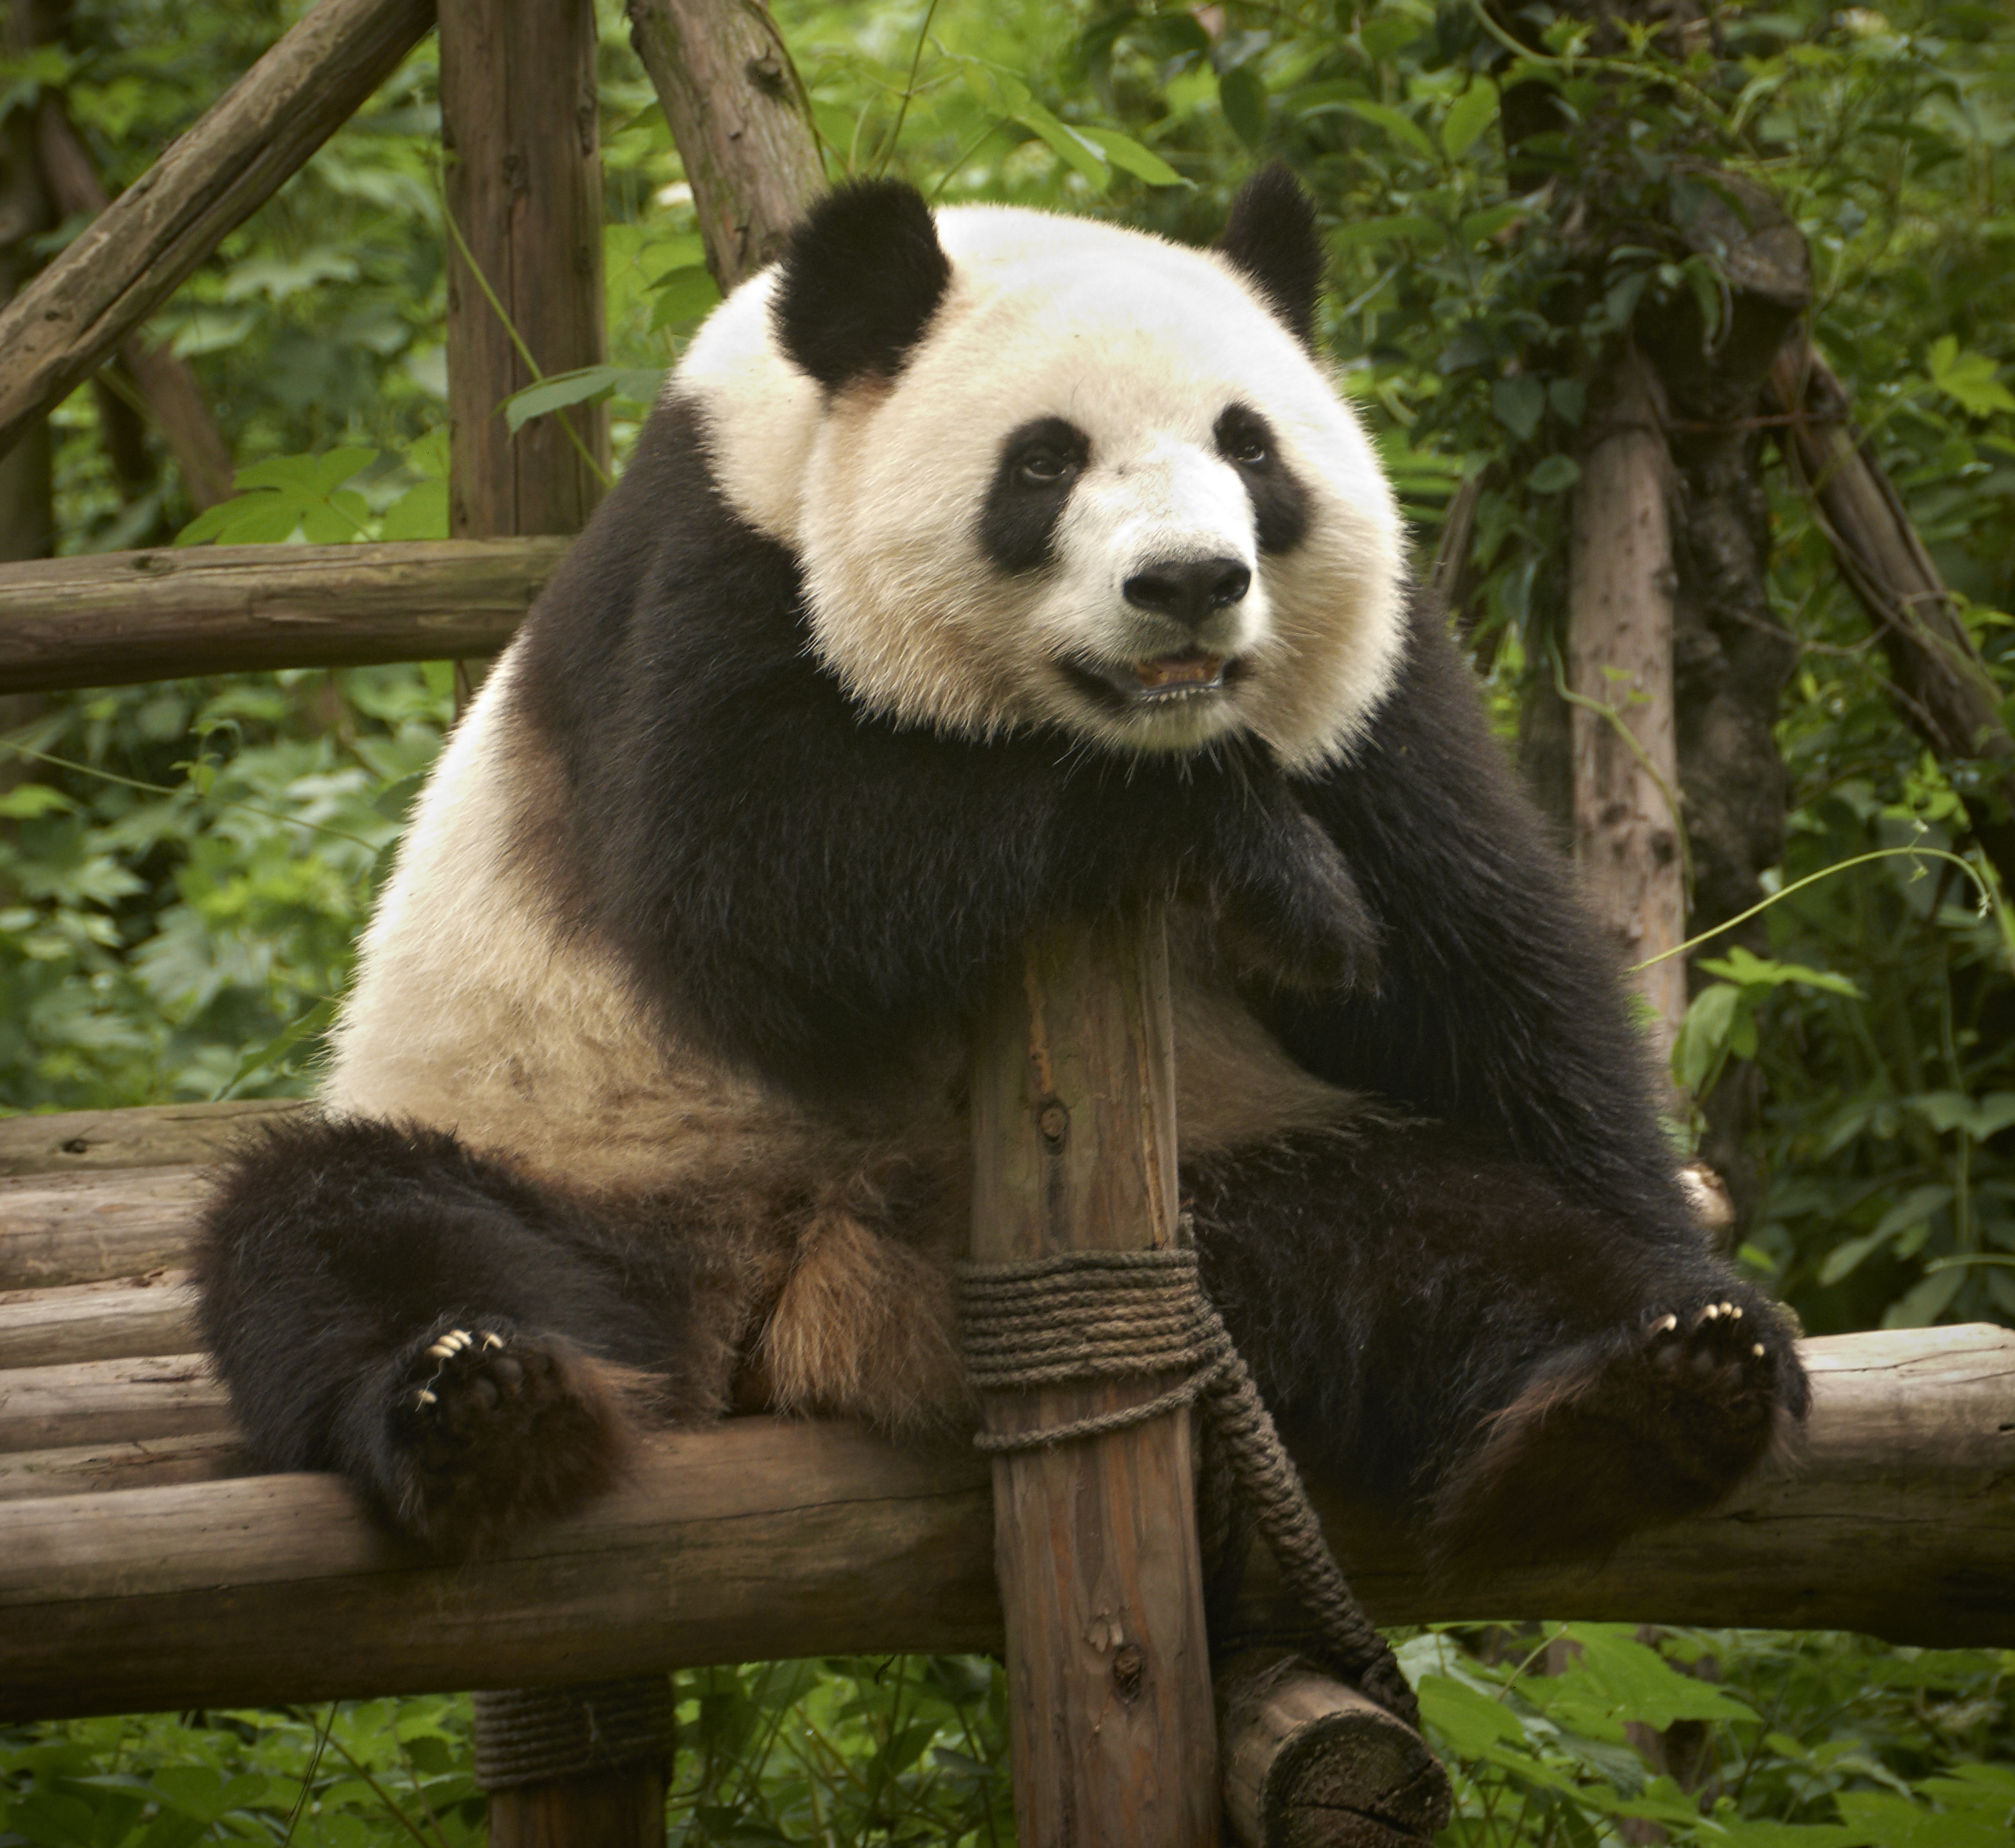panda: (311, 172, 1817, 1695)
